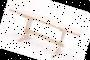Mesa: (0, 5, 85, 59)
